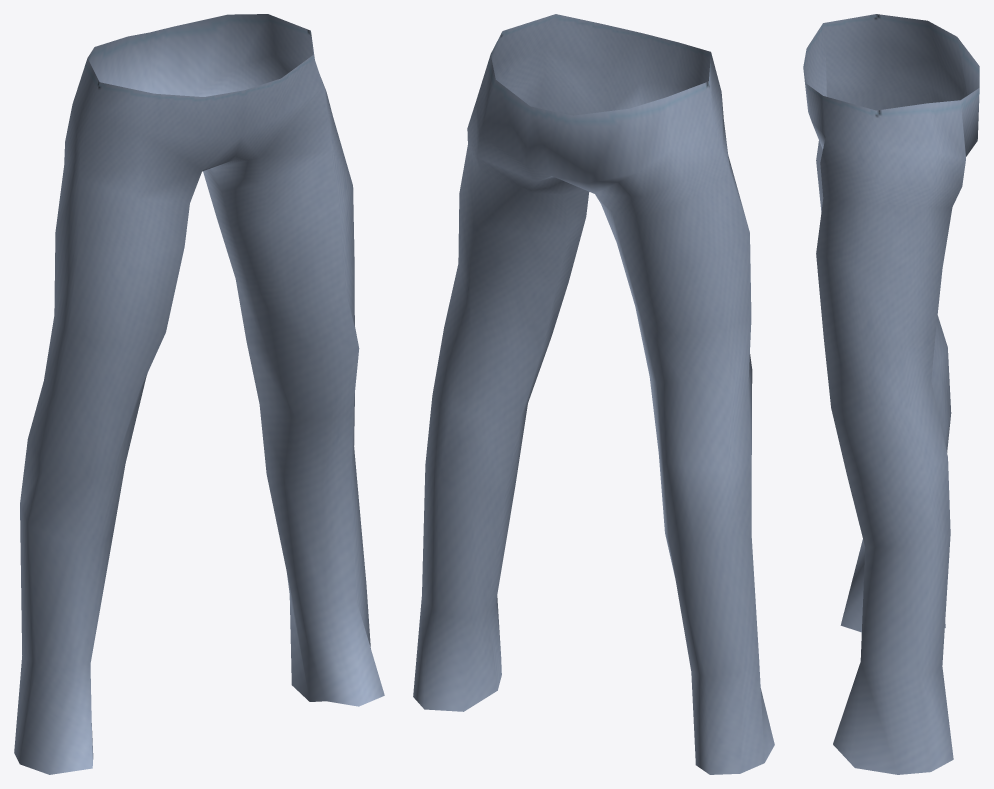
File: pantalon_servicio_01.glb
3 views of the same model, side by side, from view 1: azimuth 30°, elevation 25°; view 2: azimuth 150°, elevation 25°; view 3: azimuth 270°, elevation 25° (orthographic). The views are drawn at different scales.
Visible parts, largest first — view 1: piernas; view 2: piernas; view 3: piernas.
Boxes of the visible parts, x1,y1,x2,y2 form: piernas: [14, 14, 384, 774]; piernas: [413, 14, 774, 774]; piernas: [803, 14, 979, 774].
Size of the model in its own units: 0.4961 by 0.9143 by 0.2292.
1 material, 1 textured.
